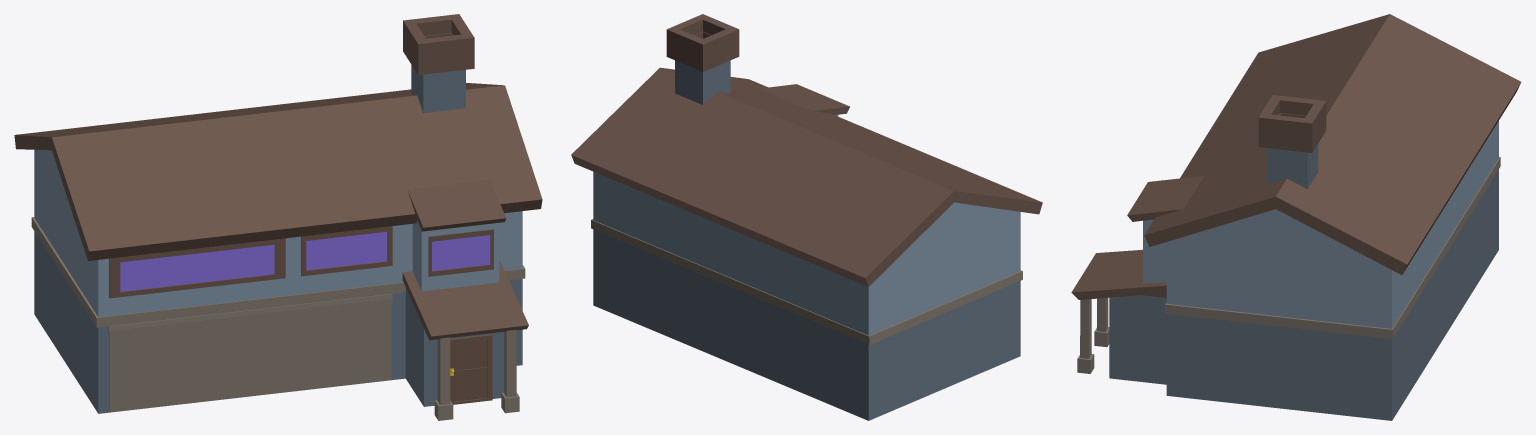
The model's file is CALLE5_CASA2_011.fbx.
The picture shows the model from 3 angles, left to right: view 1: azimuth 30°, elevation 25°; view 2: azimuth 150°, elevation 25°; view 3: azimuth 270°, elevation 25°; orthographic projection. The views are drawn at different scales.
Parts seen in each view (by area): view 1: CASA2.011; view 2: CASA2.011; view 3: CASA2.011.
Part boxes in pixels (<box>): CASA2.011: <box>14,14,542,420</box>; CASA2.011: <box>571,14,1042,420</box>; CASA2.011: <box>1071,14,1521,420</box>.
Bounding box in the file's own units: 1112 × 680 × 997.
